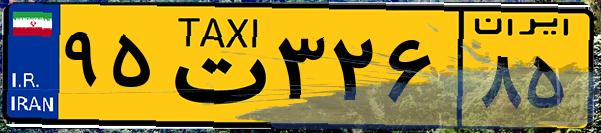2: (330, 28, 385, 110)
3: (270, 28, 330, 110)
5: (525, 38, 570, 115), (110, 28, 158, 98)
6: (385, 28, 445, 110)
8: (475, 38, 525, 113)
9: (57, 26, 110, 100)
ت: (158, 12, 270, 120)
